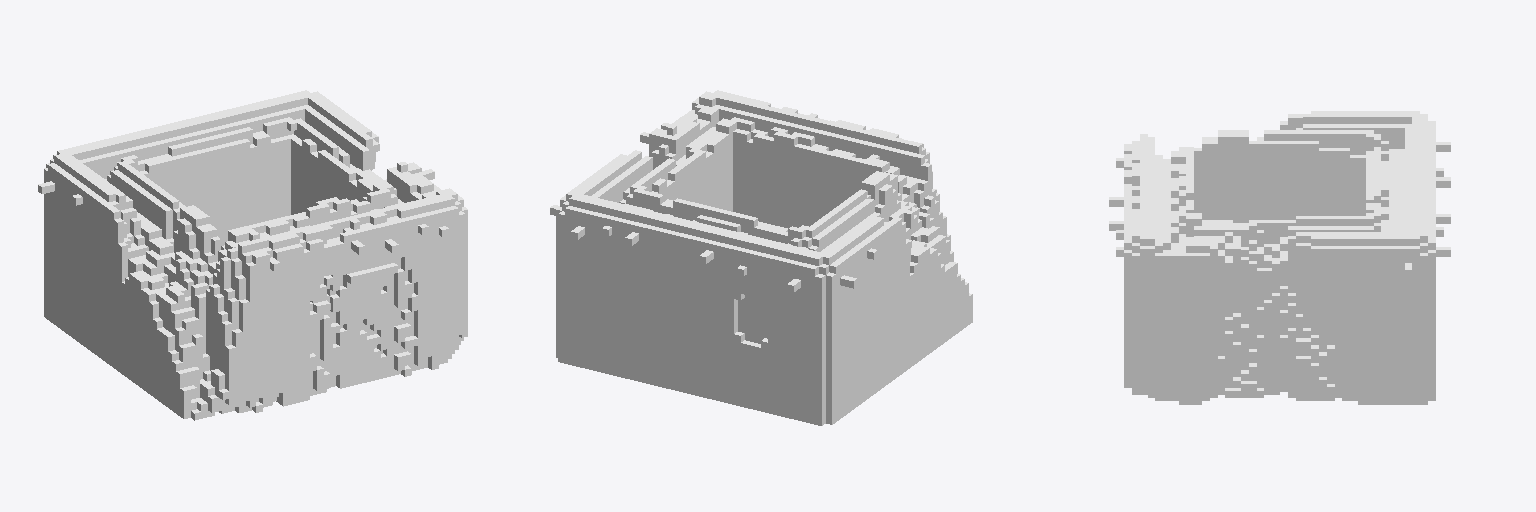
The model's file is fixed_house2.obj.
3 renders of one model, left to right at view 1: azimuth 30°, elevation 25°; view 2: azimuth 150°, elevation 25°; view 3: azimuth 270°, elevation 25°, orthographic.
Visible parts, largest first — view 1: object 1; view 2: object 1; view 3: object 1.
Boxes of the visible parts, x1=… form: object 1: x1=38, y1=90, x2=467, y2=420; object 1: x1=550, y1=90, x2=972, y2=425; object 1: x1=1109, y1=111, x2=1450, y2=404.
Bounding box in the file's own units: 4.5 × 2.3 × 4.4.